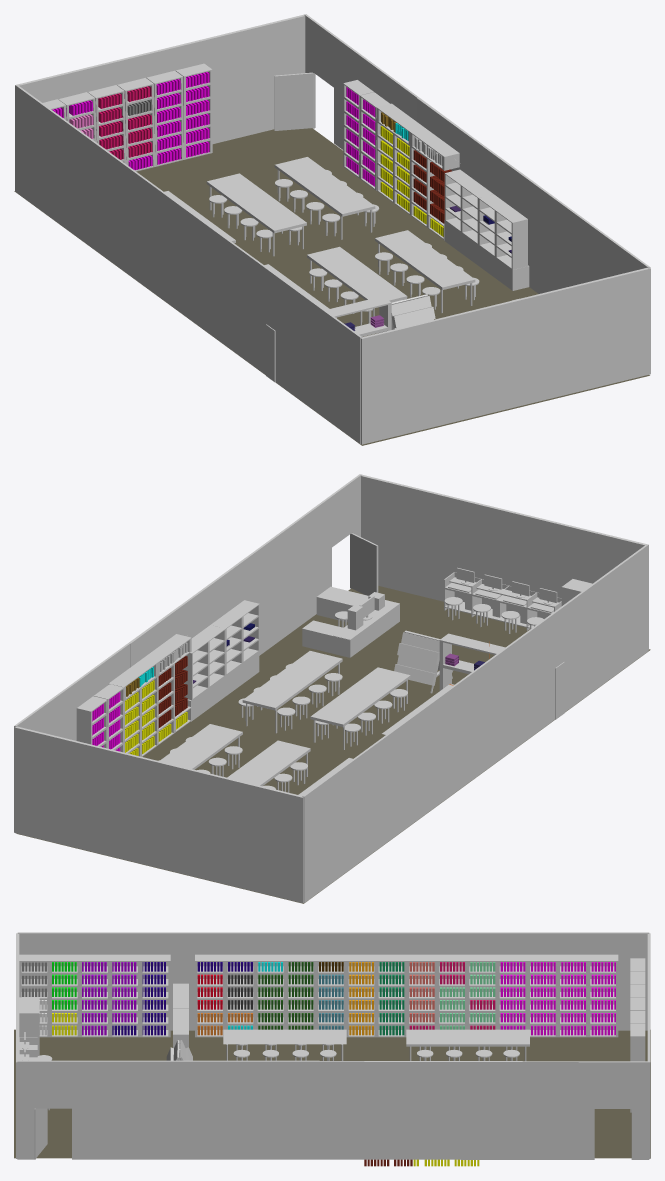
The model's file is LIBRARY.glb.
The picture shows the model from 3 angles, top to bottom: view 1: azimuth 30°, elevation 25°; view 2: azimuth 150°, elevation 25°; view 3: azimuth 270°, elevation 25°; orthographic projection. The views are drawn at different scales.
Visible parts, largest first — view 1: Plane.003, Plane.004, Plane, Plane.001, Plane.005, Cube.007, Plane.002, Cube.071, Plane.007, Plane.006, Plane.010, Cube.073 (+18 smaller); view 2: Plane.003, Plane.001, Plane.004, Plane, Plane.005, Plane.002, Cube.001, Plane.010, Plane.011, Plane.013, Cube.008, Plane.006 (+16 smaller); view 3: Plane.002, Plane.003, Cube.005, Plane.005, Plane, Plane.013, Cube.003, Cube.004, Cube.056, Cube.063, Plane.008, Plane.009 (+21 smaller).
Boxes of the visible parts, x1,y1,x2,y2 form: Plane.003: [15, 84, 362, 444]; Plane.004: [361, 267, 650, 444]; Plane: [14, 128, 649, 445]; Plane.001: [15, 14, 305, 190]; Plane.005: [483, 146, 650, 293]; Cube.007: [43, 63, 212, 171]; Plane.002: [304, 14, 459, 149]; Cube.071: [52, 72, 209, 170]; Plane.007: [274, 157, 375, 216]; Plane.006: [206, 173, 306, 233]; Plane.010: [375, 230, 475, 289]; Cube.073: [98, 86, 152, 159]; Plane.003: [302, 544, 648, 902]; Plane.001: [14, 726, 303, 903]; Plane.004: [361, 474, 648, 649]; Plane: [16, 586, 650, 903]; Plane.005: [197, 474, 361, 655]; Plane.002: [14, 606, 178, 832]; Cube.001: [316, 586, 399, 657]; Plane.010: [242, 651, 342, 710]; Plane.011: [310, 667, 410, 726]; Plane.013: [129, 559, 244, 667]; Cube.008: [76, 684, 124, 752]; Plane.006: [227, 740, 310, 786]; Plane.002: [347, 1061, 649, 1159]; Plane.003: [17, 932, 649, 1030]; Cube.005: [195, 954, 618, 1037]; Plane.005: [17, 1060, 319, 1159]; Plane: [14, 1029, 650, 1158]; Plane.013: [225, 1061, 440, 1159]; Cube.003: [19, 954, 170, 1037]; Cube.004: [500, 962, 615, 1035]; Cube.056: [82, 962, 136, 1035]; Cube.063: [258, 962, 313, 1029]; Plane.008: [406, 1029, 529, 1046]; Plane.009: [223, 1029, 346, 1044].
Size of the model in its own units: 5.71 by 2.23 by 11.8.
